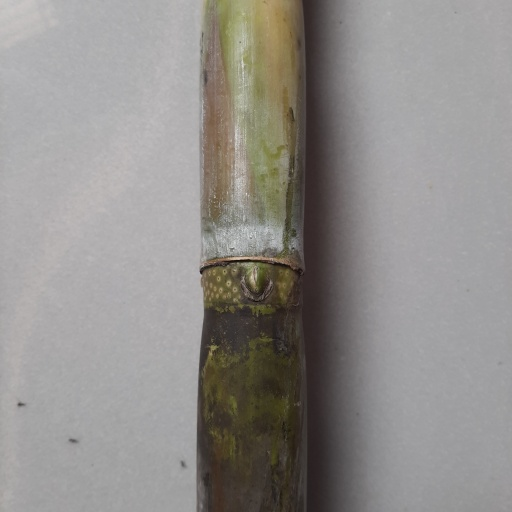Bud: (243, 264, 270, 300)
